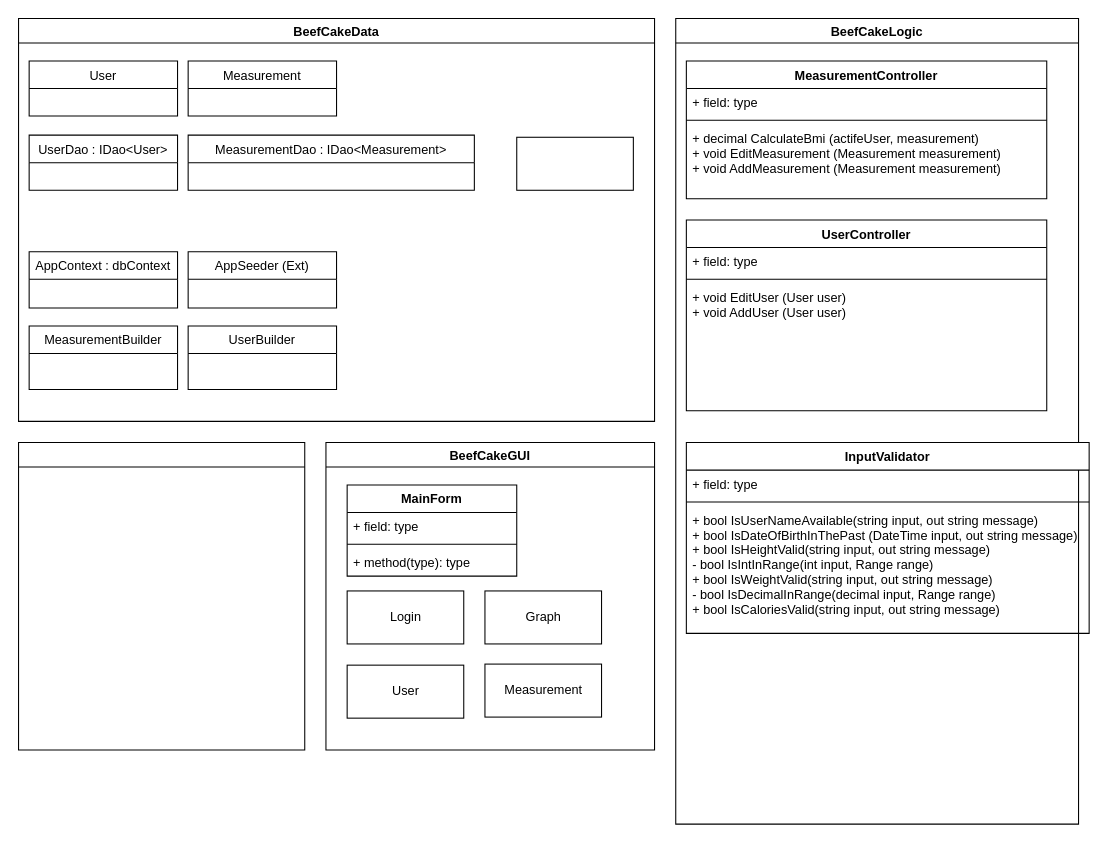
This 1108x843 diagram has some shape labels left out. Here are the shapes that lost their labels. From the top down, the centre of each, then its label:
point (574, 163): «interface» IDao<T>
point (161, 595): BeefCakeTests
